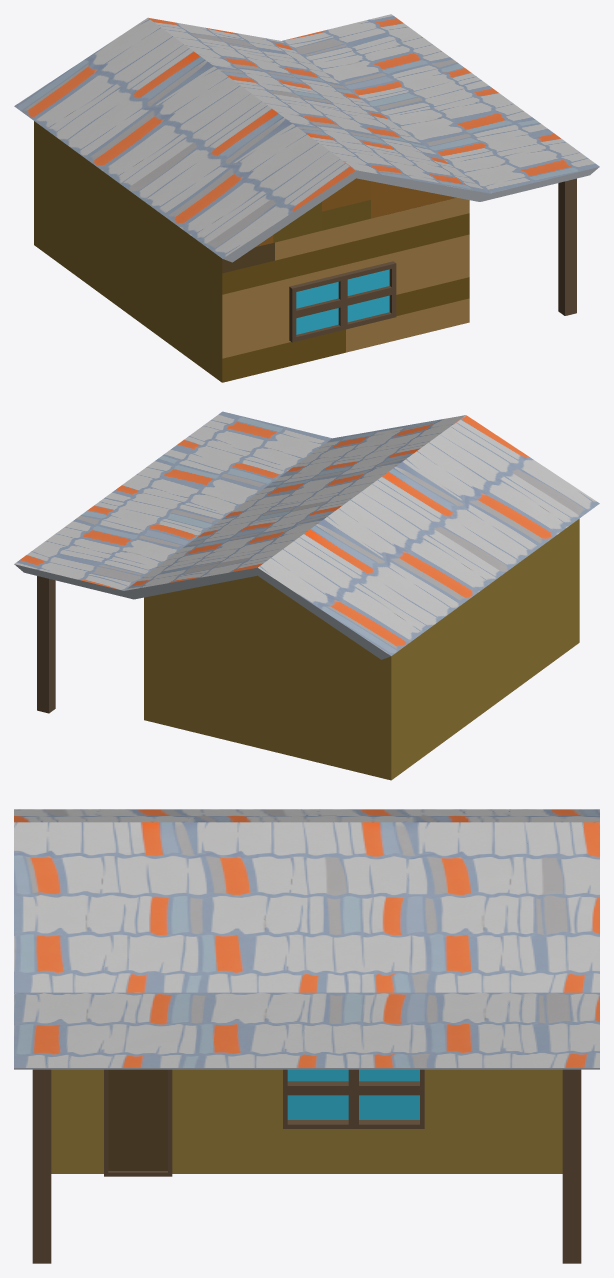
Rendered from CasaColor1.glb.
3 views of the same model, one above another, from view 1: azimuth 30°, elevation 25°; view 2: azimuth 150°, elevation 25°; view 3: azimuth 270°, elevation 25° (orthographic). The views are drawn at different scales.
Visible parts, largest first — view 1: techo, pared.008, Etructura, ventana2.001, Soporte; view 2: techo, Etructura, Soporte; view 3: techo, Etructura, vidrio, Soporte, marco.
Boxes of the visible parts, left/top/right/bottom form: techo: left=14, top=14, right=599, bottom=262; pared.008: left=222, top=178, right=469, bottom=382; Etructura: left=34, top=121, right=222, bottom=382; ventana2.001: left=289, top=261, right=396, bottom=342; Soporte: left=558, top=178, right=576, bottom=315; techo: left=14, top=411, right=599, bottom=659; Etructura: left=144, top=518, right=579, bottom=780; Soporte: left=37, top=576, right=55, bottom=713; techo: left=14, top=809, right=599, bottom=1069; Etructura: left=51, top=1069, right=562, bottom=1173; vidrio: left=283, top=1069, right=424, bottom=1128; Soporte: left=32, top=1069, right=581, bottom=1263; marco: left=104, top=1069, right=172, bottom=1176.
Bounding box in the file's own units: 7.22 × 3.72 × 6.91.
Materials: 12 (1 with a texture image).
